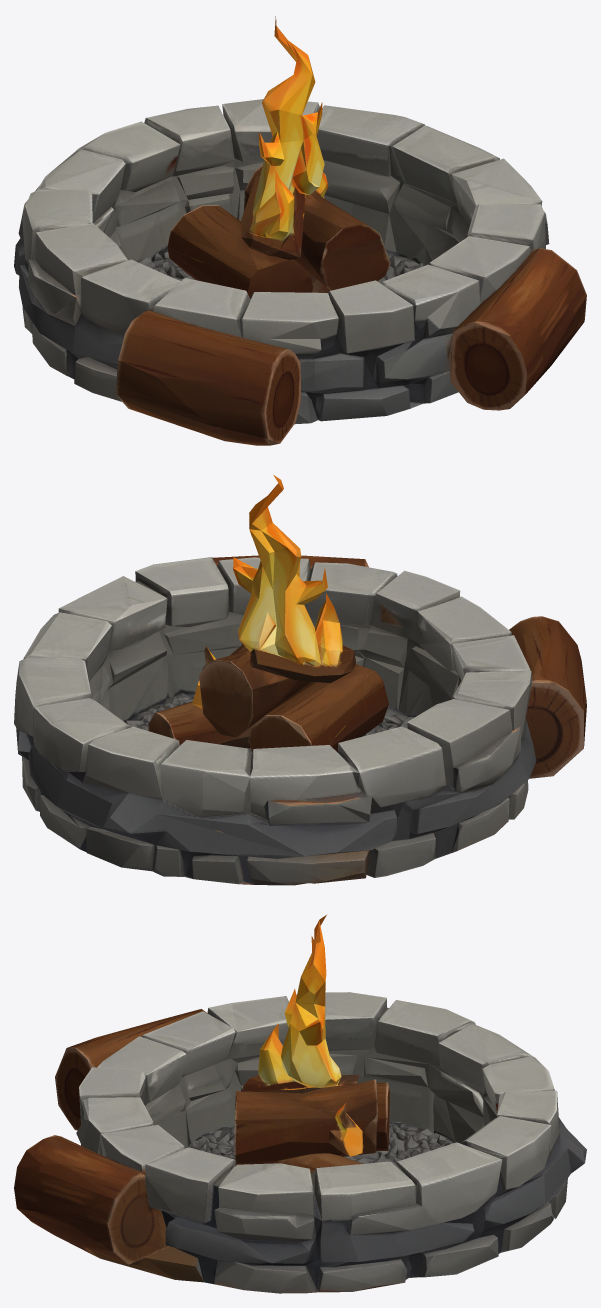
The model's file is firepit_circle.glb.
3 views of the same model, one above another, from view 1: azimuth 30°, elevation 25°; view 2: azimuth 150°, elevation 25°; view 3: azimuth 270°, elevation 25° (orthographic). The views are drawn at different scales.
Size of the model in its own units: 1.65 by 1.03 by 1.9.
Materials: 1 (1 with a texture image).
